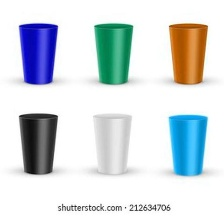glass: (12, 107, 63, 178), (88, 107, 137, 177), (163, 107, 211, 178), (16, 17, 63, 88), (165, 18, 211, 87), (90, 19, 135, 87)
